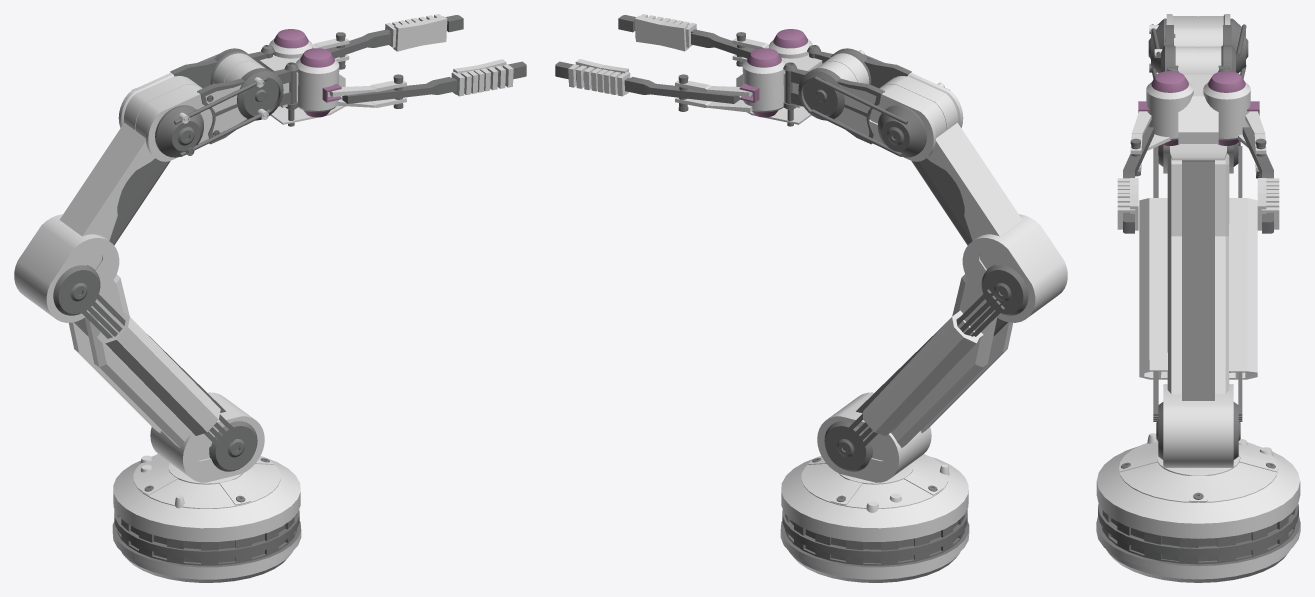
Rendered from ГОТОВАЯ РУКА.fbx.
The picture shows the model from 3 angles, left to right: view 1: azimuth 30°, elevation 25°; view 2: azimuth 150°, elevation 25°; view 3: azimuth 270°, elevation 25°; orthographic projection. The views are drawn at different scales.
Visible parts, largest first — view 1: bone 1, bone 3, bone 5, bone 7 right, bone 4, bone 2, bone 7 left, bone 6; view 2: bone 1, bone 3, bone 5, bone 7 left, bone 4, bone 2, bone 7 right, bone 6; view 3: bone 3, bone 1, bone 2, bone 5, bone 7 left, bone 7 right, bone 6.
Part boxes in pixels (x1,y1,x2,y2): bone 1: (112,454,301,582); bone 3: (14,214,239,452); bone 5: (118,48,283,161); bone 7 right: (296,48,526,117); bone 4: (59,123,170,245); bone 2: (150,392,264,482); bone 7 left: (269,14,463,69); bone 6: (249,45,345,126); bone 1: (780,454,969,582); bone 3: (843,214,1067,451); bone 5: (798,48,963,161); bone 7 left: (555,48,785,117); bone 4: (911,123,1022,245); bone 2: (817,392,931,482); bone 7 right: (618,14,812,66); bone 6: (736,45,832,126); bone 3: (1139,141,1257,421); bone 1: (1096,433,1300,582); bone 2: (1156,384,1240,467); bone 5: (1148,14,1248,78); bone 7 left: (1203,71,1279,233); bone 7 right: (1117,71,1193,233); bone 6: (1167,65,1229,160).
Bounding box in the file's own units: 2.38 × 2.37 × 0.8431.
